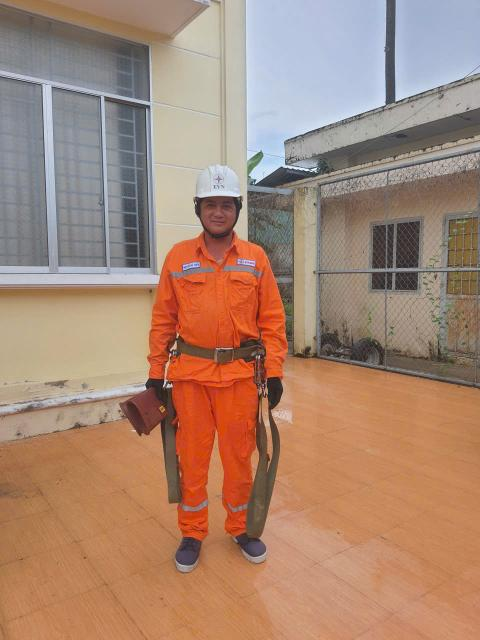gloves: (123, 373, 180, 429), (261, 372, 287, 407)
helmet: (184, 148, 269, 212)
shoes: (213, 517, 272, 568), (169, 525, 210, 576)
